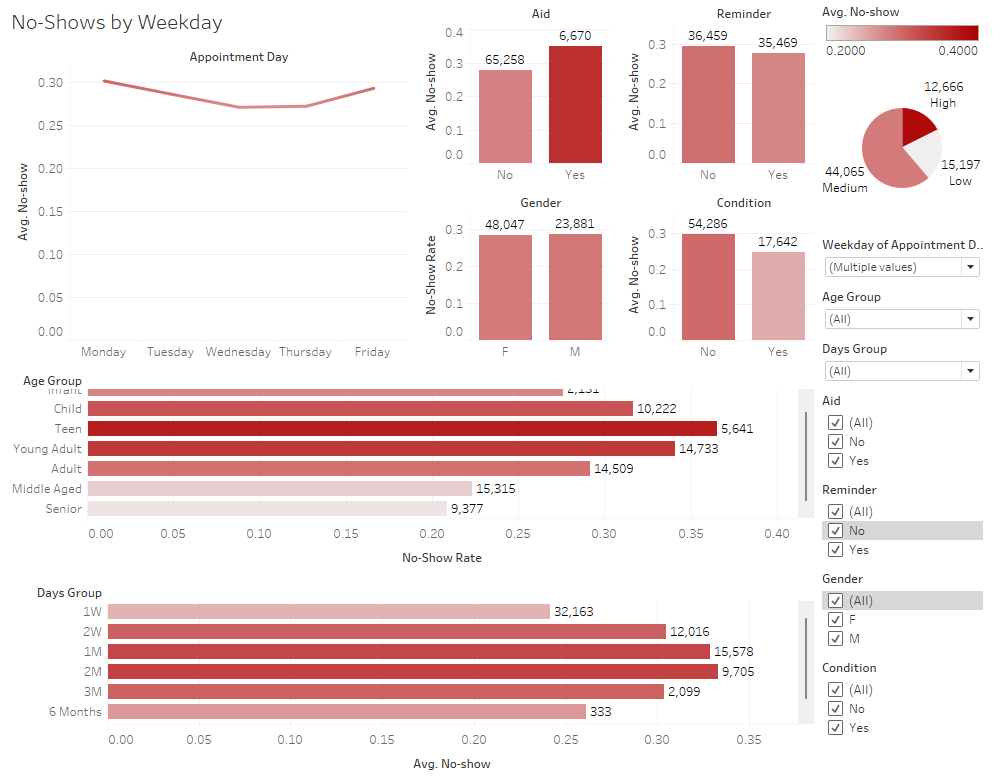

What the dashboard file says about the page in this screenshot:
{"tool":"tableau","page":{"name":"Driver Analysis","canvas":[1000,800],"ordinal":0},"visuals":[{"type":"worksheet","title":"No-Shows by Weekday","mark":"Automatic","rows":["No-show"],"cols":["AppointmentDay"],"box":[8,8,407.5,366]},{"type":"worksheet","title":"Scholarship Impact","mark":"Automatic","rows":["No-show"],"cols":["Aid"],"box":[415.5,8,203.8,189]},{"type":"worksheet","title":"Reminder Impact","mark":"Automatic","rows":["No-show"],"cols":["Reminder"],"box":[619.2,8,203.8,189]},{"type":"legend","title":"No-Show by Age Group","param":"[federated.193puk90tf1toy1ceu3rd0siq47u].[avg:No-show:qk]","box":[823,8,169,65]},{"type":"worksheet","title":"Sheet 16","mark":"Pie","box":[823,73,169,168]},{"type":"worksheet","title":"Gender Impact","mark":"Automatic","rows":["No-show"],"cols":["Gender"],"box":[415.5,197,203.8,177]},{"type":"worksheet","title":"Condition Impact","mark":"Automatic","rows":["No-show"],"cols":["Condition"],"box":[619.2,197,203.8,177]},{"type":"filter","title":"No-Shows by Weekday","param":"[federated.193puk90tf1toy1ceu3rd0siq47u].[wd:AppointmentDay:ok]","box":[823,241,169,52]},{"type":"filter","title":"No-Show by Age Group","param":"[federated.193puk90tf1toy1ceu3rd0siq47u].[none:Age_Group:nk]","box":[823,293,169,52]},{"type":"filter","title":"No-Show by Days Waiting","param":"[federated.193puk90tf1toy1ceu3rd0siq47u].[none:Days_Group:nk]","box":[823,345,169,52]},{"type":"worksheet","title":"No-Show by Age Group","mark":"Automatic","rows":["Age_Group"],"cols":["No-show"],"box":[8,374,815,212]},{"type":"filter","title":"Scholarship Impact","param":"[federated.193puk90tf1toy1ceu3rd0siq47u].[none:Aid:nk]","box":[823,397,169,89]},{"type":"filter","title":"Reminder Impact","param":"[federated.193puk90tf1toy1ceu3rd0siq47u].[none:Reminder:nk]","box":[823,486,169,89]},{"type":"filter","title":"Gender Impact","param":"[federated.193puk90tf1toy1ceu3rd0siq47u].[none:Gender:nk]","box":[823,575,169,89]},{"type":"worksheet","title":"No-Show by Days Waiting","mark":"Automatic","rows":["Days_Group"],"cols":["No-show"],"box":[8,586,815,206]},{"type":"filter","title":"Condition Impact","param":"[federated.193puk90tf1toy1ceu3rd0siq47u].[none:Condition:nk]","box":[823,664,169,89]}]}

Visuals, with their boxes in screenshot pixels (x1, y1, x2, y2), scaled from the page's 1000x800 canvas onto the 1006x782 screenshot:
"No-Shows by Weekday" worksheet: bbox=[8, 8, 418, 366]
"Scholarship Impact" worksheet: bbox=[418, 8, 623, 193]
"Reminder Impact" worksheet: bbox=[623, 8, 828, 193]
"No-Show by Age Group" legend: bbox=[828, 8, 998, 71]
"Sheet 16" worksheet (Pie marks): bbox=[828, 71, 998, 236]
"Gender Impact" worksheet: bbox=[418, 193, 623, 366]
"Condition Impact" worksheet: bbox=[623, 193, 828, 366]
"No-Shows by Weekday" filter: bbox=[828, 236, 998, 286]
"No-Show by Age Group" filter: bbox=[828, 286, 998, 337]
"No-Show by Days Waiting" filter: bbox=[828, 337, 998, 388]
"No-Show by Age Group" worksheet: bbox=[8, 366, 828, 573]
"Scholarship Impact" filter: bbox=[828, 388, 998, 475]
"Reminder Impact" filter: bbox=[828, 475, 998, 562]
"Gender Impact" filter: bbox=[828, 562, 998, 649]
"No-Show by Days Waiting" worksheet: bbox=[8, 573, 828, 774]
"Condition Impact" filter: bbox=[828, 649, 998, 736]
